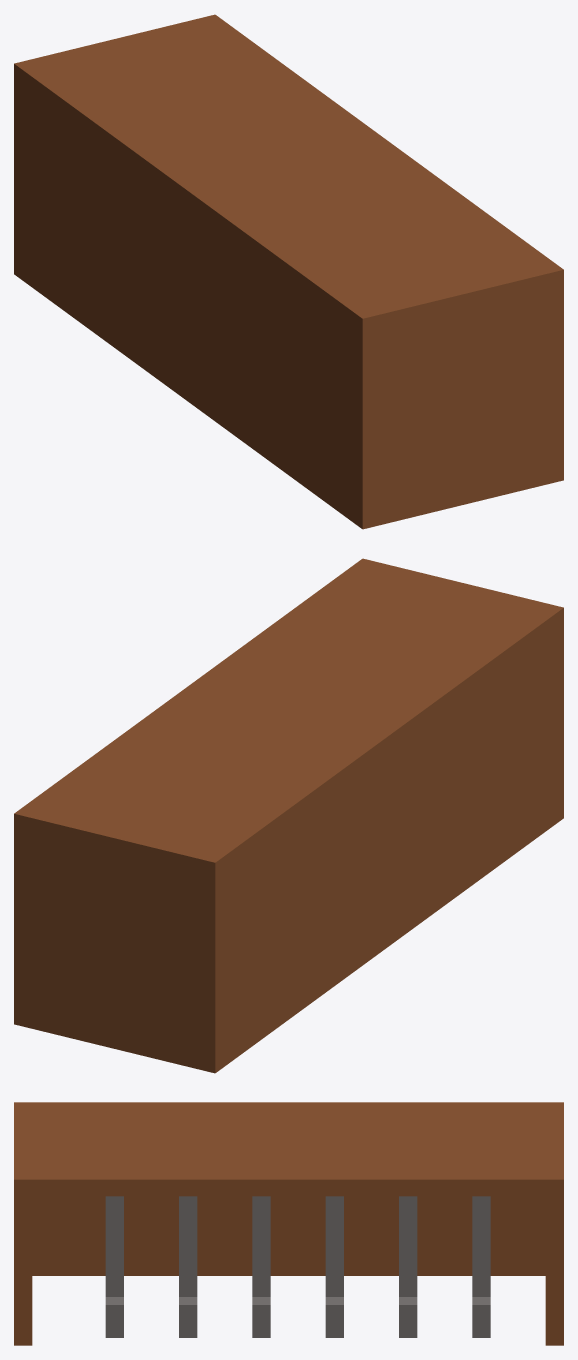
File: colgadorofi.obj
The picture shows the model from 3 angles, top to bottom: view 1: azimuth 30°, elevation 25°; view 2: azimuth 150°, elevation 25°; view 3: azimuth 270°, elevation 25°; orthographic projection. The views are drawn at different scales.
Size of the model in its own units: 1 by 1 by 3.
Materials: 1 (1 with a texture image).
